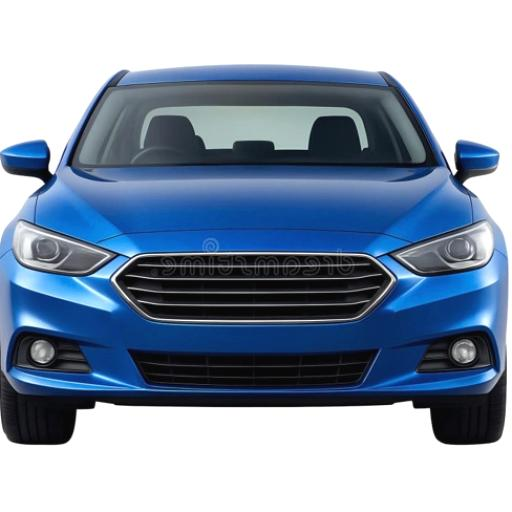sedan: (1, 65, 508, 441)
